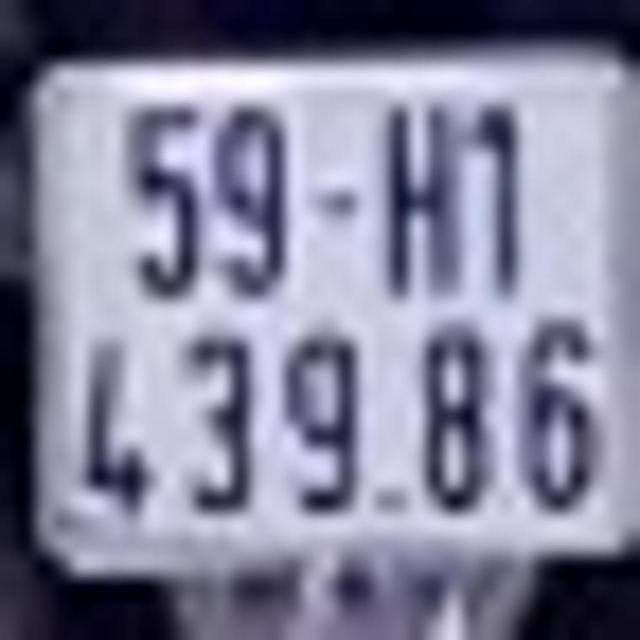1: (471, 105, 518, 298)
3: (188, 334, 250, 516)
4: (84, 338, 152, 512)
5: (132, 106, 200, 293)
6: (519, 316, 593, 509)
8: (424, 324, 490, 506)
9: (214, 106, 286, 295), (287, 337, 359, 520)
H: (386, 102, 458, 300)
